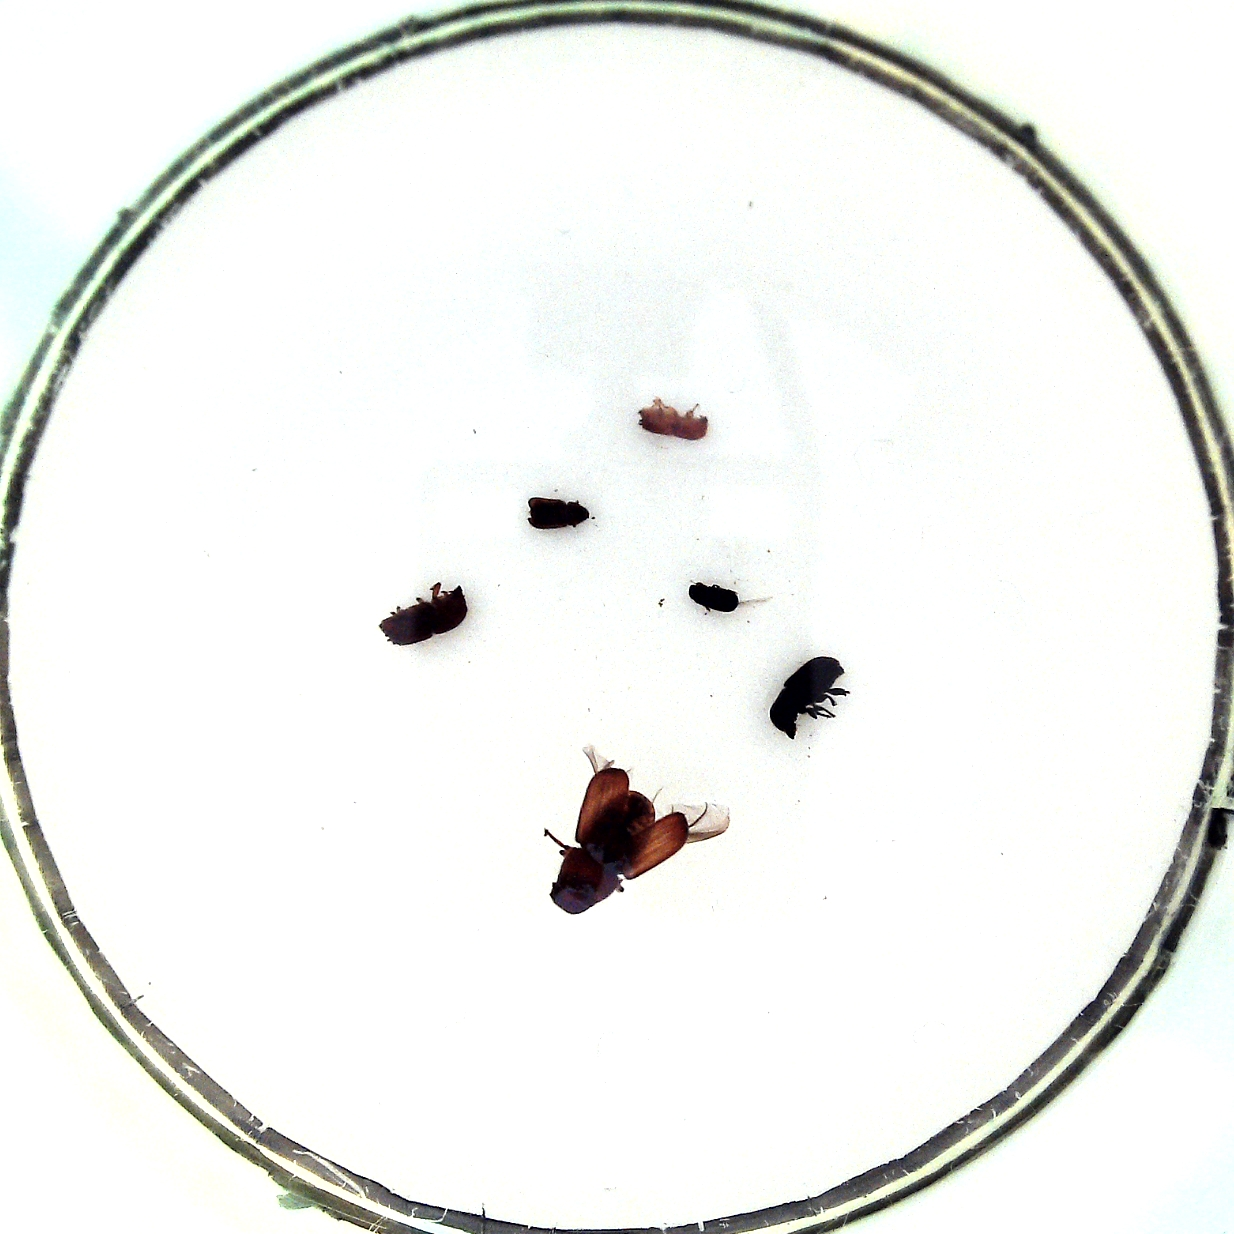Leconte: (549, 768, 657, 916)
acuminatus: (687, 580, 737, 612)
armandi: (770, 657, 844, 739)
coleoptera: (638, 398, 709, 441), (528, 496, 589, 530)
linnaeus: (377, 585, 469, 646)
